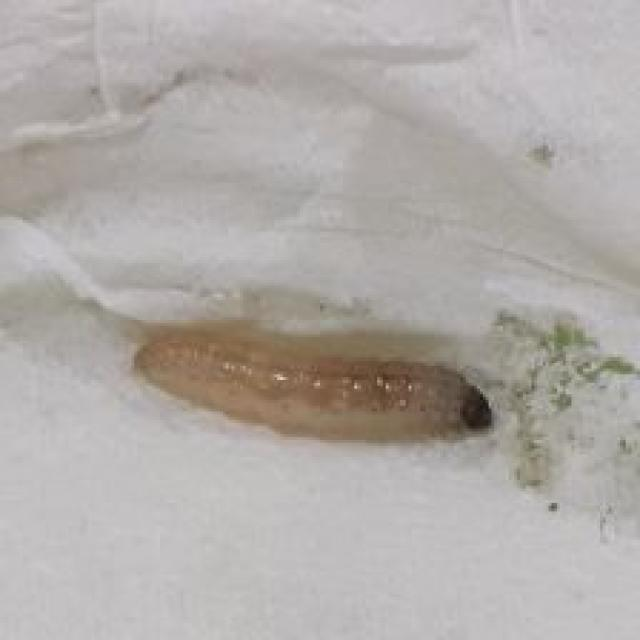white mucus: (114, 328, 518, 450)
